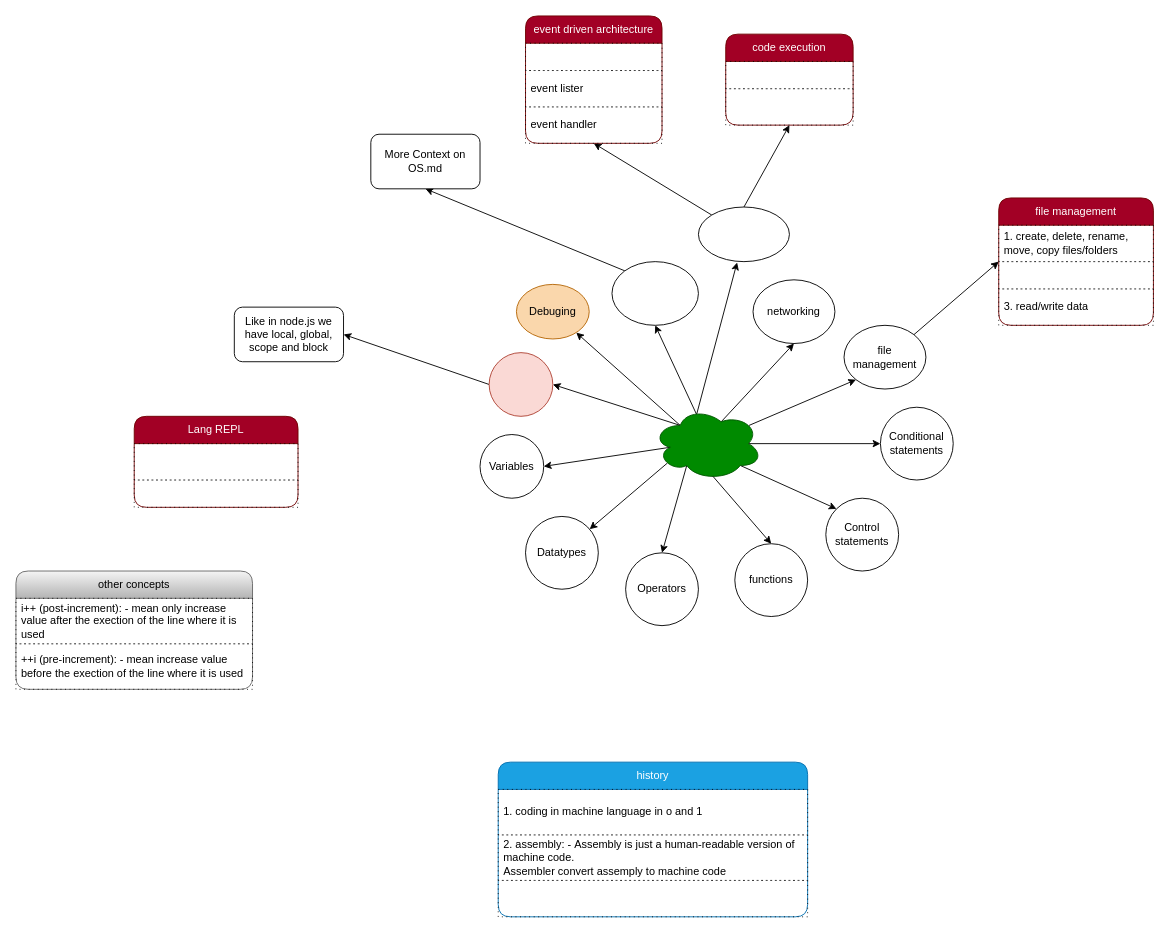
Some shapes in this 1169 by 933 pixel diagram are drawn without their labels. The centre of each missing label's shape, as x and y in pixels:
2. open/close file: the point at 1075,275
3. and then self-hoisting: the point at 652,898
Architecture: the point at 743,234
event emitter: the point at 593,56
In REPL, output are logged implicitly: the point at 215,461
multiline code: the point at 215,493
process/thread managing: the point at 654,293
Programning Language: the point at 707,443
runtime/compile: the point at 789,75
Scope: the point at 520,384
sync vs async code execution: the point at 789,106
